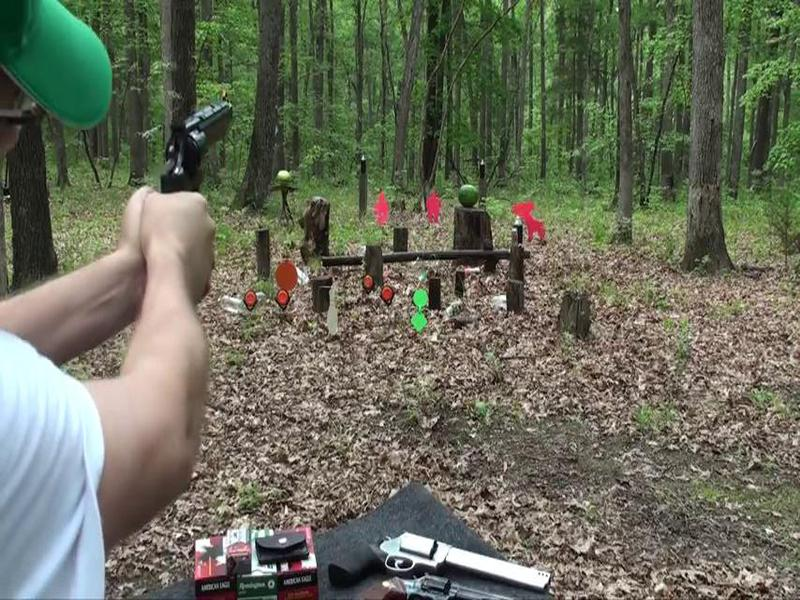Revolver: (145, 87, 240, 214)
